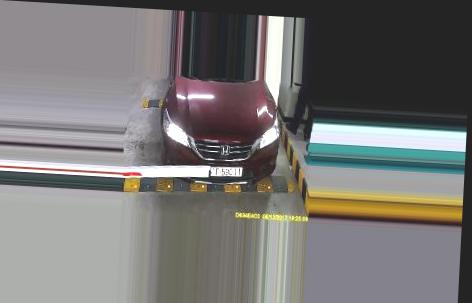License_Plate: (204, 162, 245, 181)
